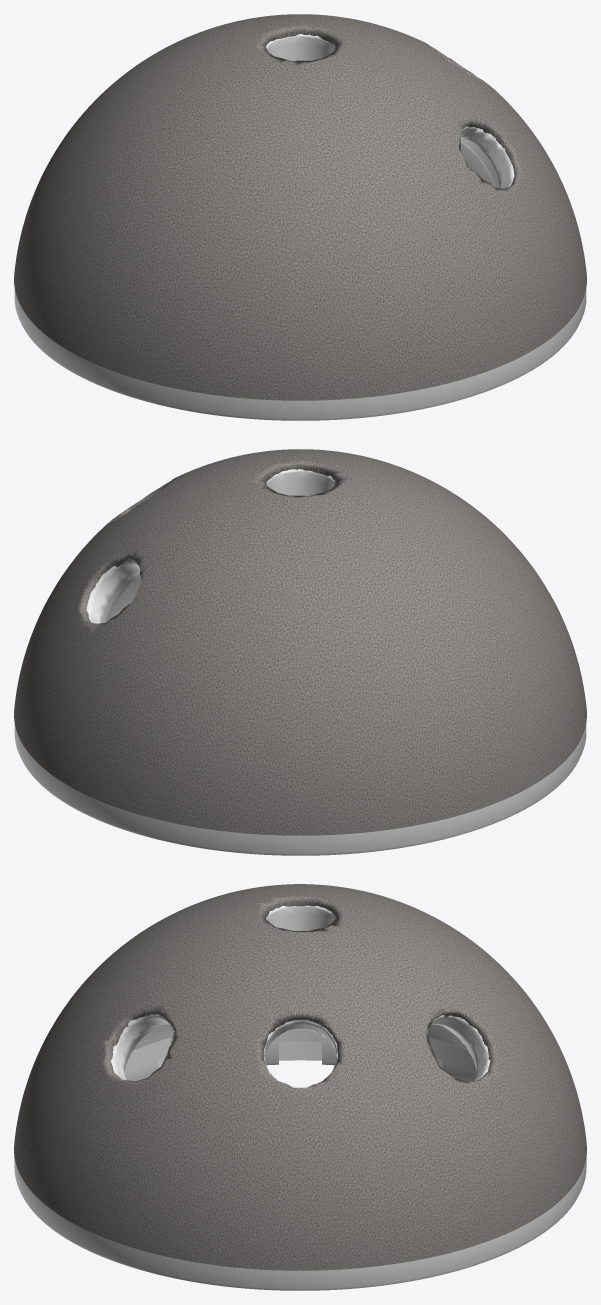
Rendered from cup-apex-tps.glb.
The picture shows the model from 3 angles, top to bottom: view 1: azimuth 30°, elevation 25°; view 2: azimuth 150°, elevation 25°; view 3: azimuth 270°, elevation 25°; orthographic projection.
Visible parts, largest first — view 1: cup_apex_tps_52; view 2: cup_apex_tps_52; view 3: cup_apex_tps_52.
Part boxes in pixels (bbox=[...]): cup_apex_tps_52: bbox=[14, 14, 586, 420]; cup_apex_tps_52: bbox=[14, 449, 586, 855]; cup_apex_tps_52: bbox=[14, 884, 586, 1290].
Size of the model in its own units: 0.0518 by 0.0257 by 0.0518.
Materials: 2 (1 with a texture image).
